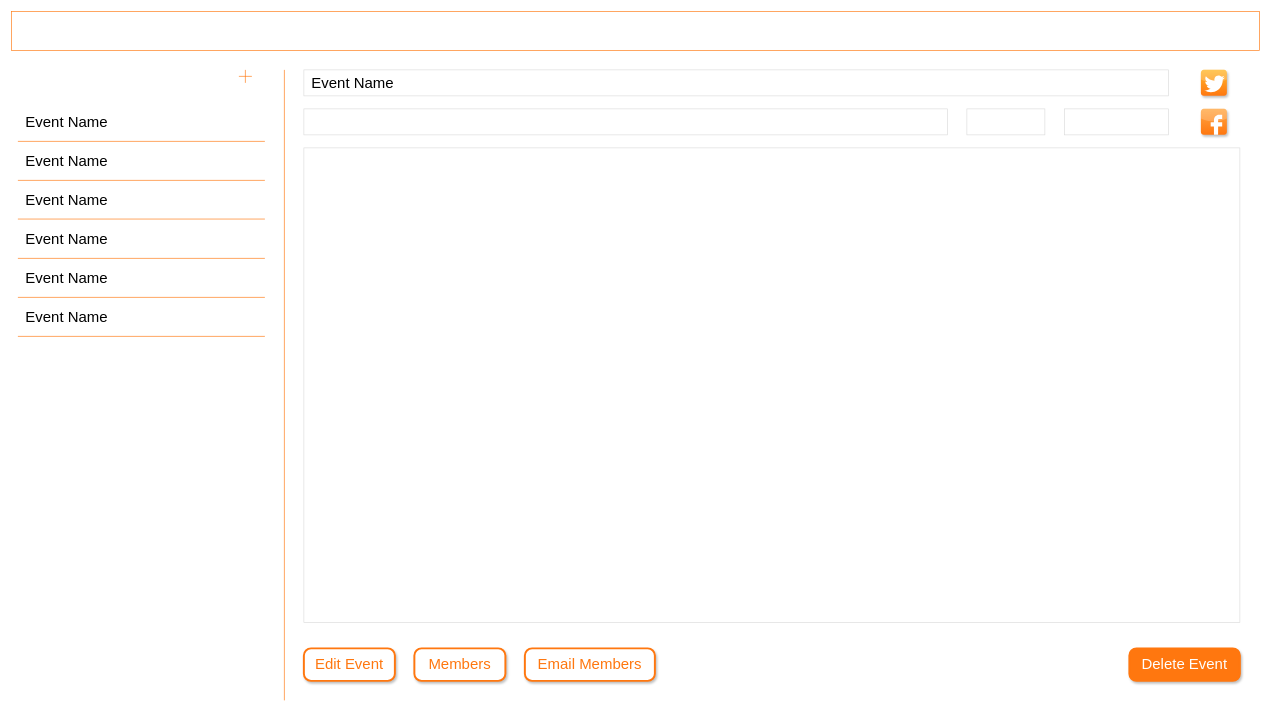
The diagram is 1271 pixels wide and 725 high, and some of its shapes have lost their labels. Here are the shapes that lost their labels. From the top down, the centre of each, then its label:
At [635,30]: "Navbar".
At [625,121]: "Event Address".
At [1005,121]: "00:00 AM".
At [1116,121]: "mm/dd/yyyy".
At [771,384]: "Event Description".
